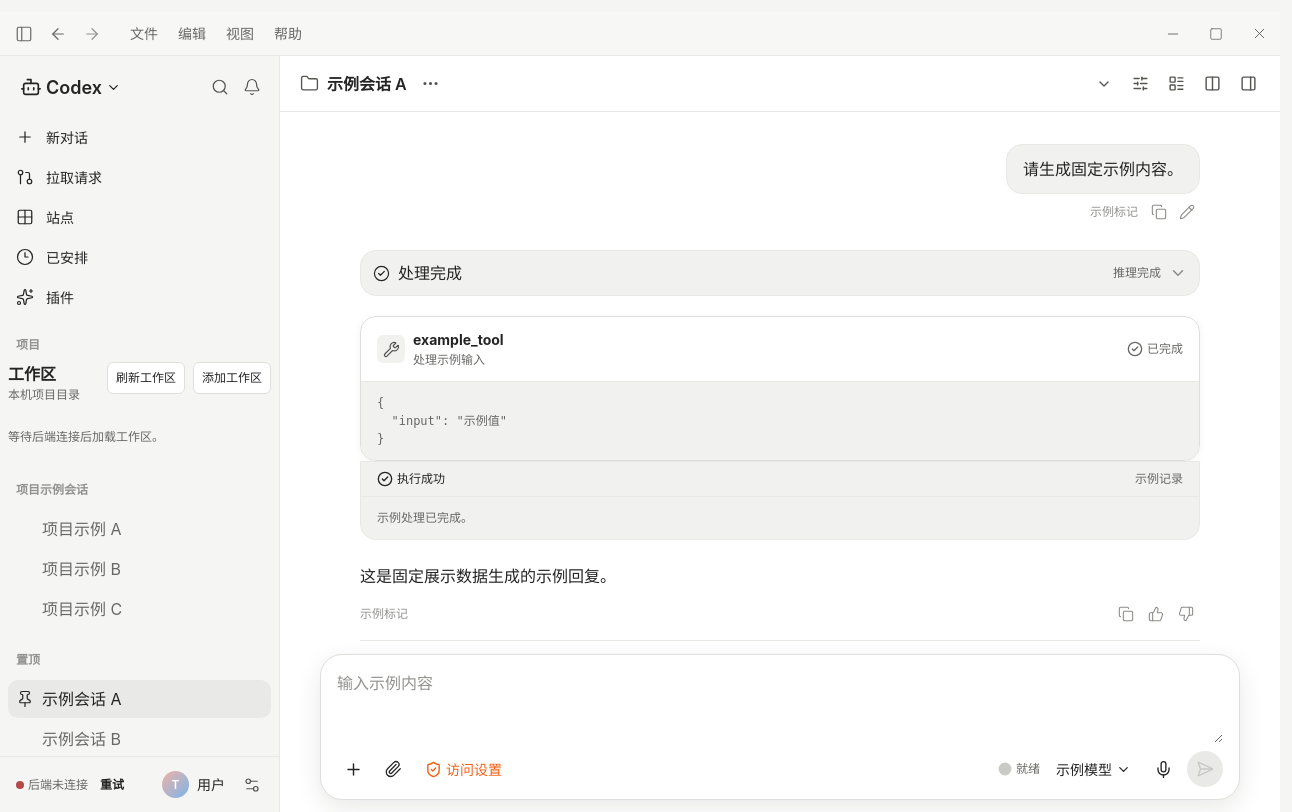
Test: App backend connection › 在 Retry 后无需刷新即可从 Disconnected 恢复为 Connected
Expected: the text "后端未连接" is shown, x1=28 y1=777 x2=88 y2=792
Click the button with aria-label "重试连接后端" at (112, 784), box x1=96 y1=777 x2=128 y2=792
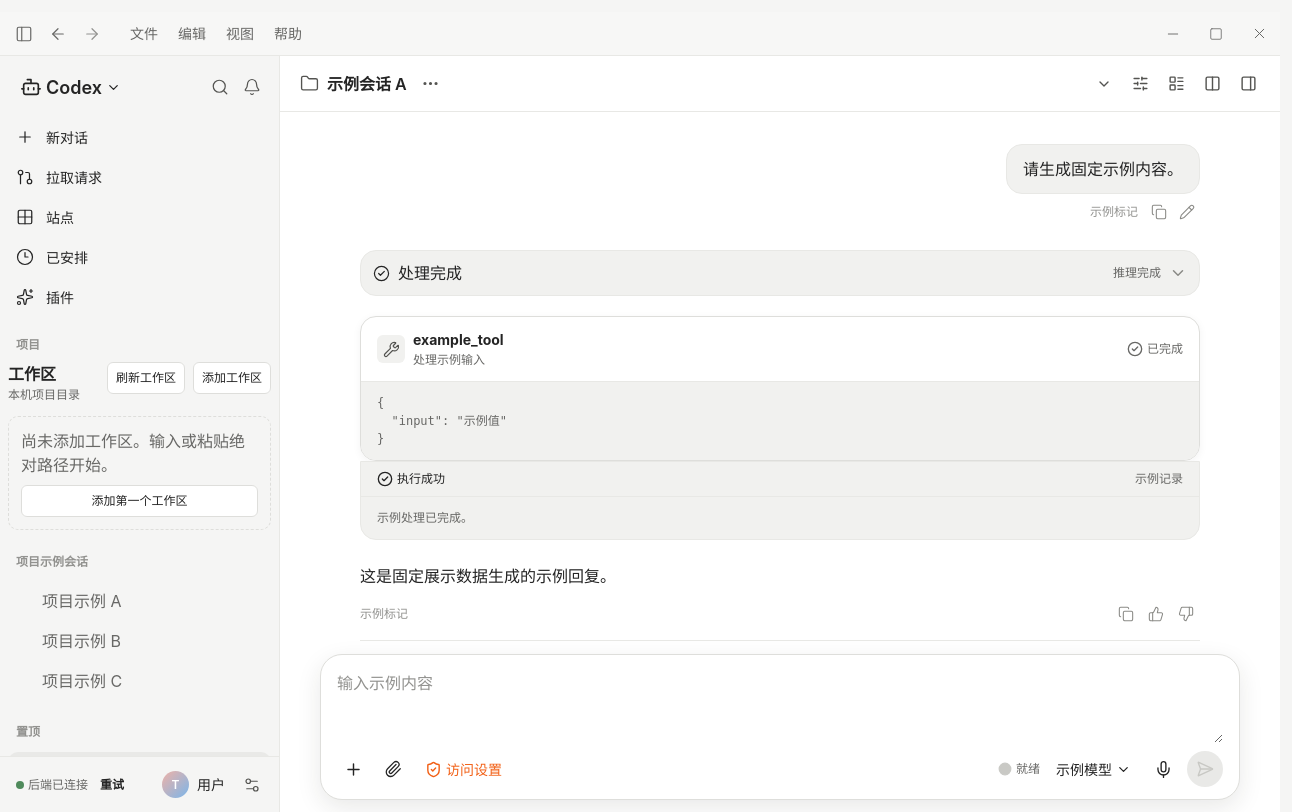
Expected: the text "后端已连接" is shown, x1=28 y1=777 x2=88 y2=792
